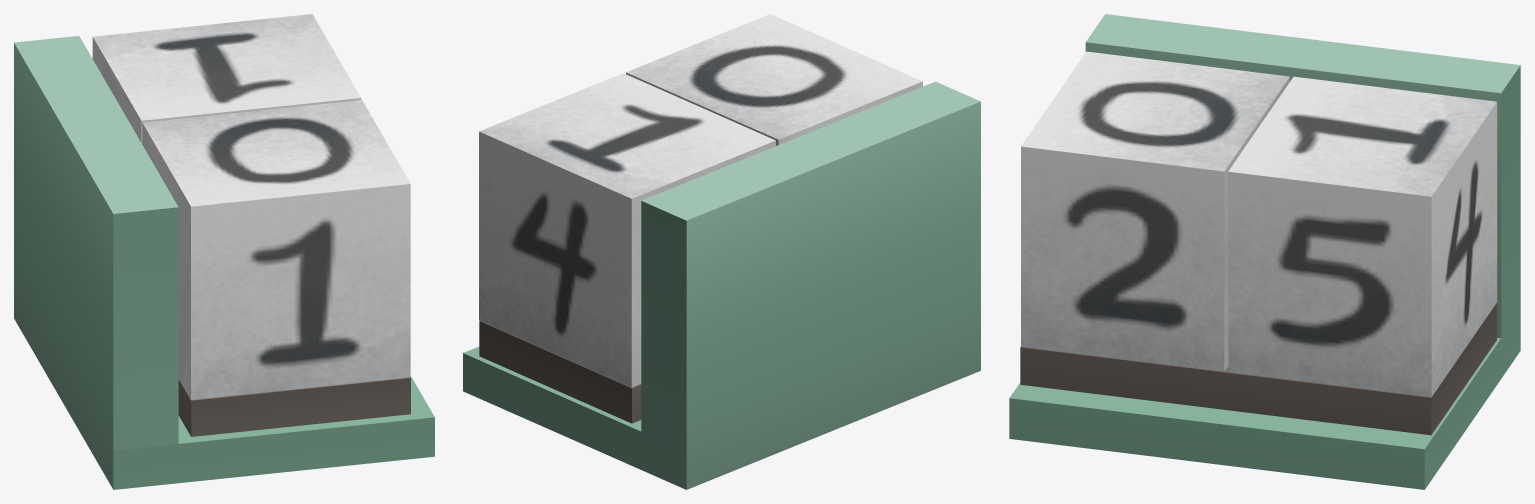
Rendered from desk calendar.fbx.
3 renders of one model, left to right at view 1: azimuth 30°, elevation 25°; view 2: azimuth 150°, elevation 25°; view 3: azimuth 270°, elevation 25°, orthographic. The views are drawn at different scales.
Visible parts, largest first — view 1: calendar_cubes, calender_stand; view 2: calender_stand, calendar_cubes; view 3: calendar_cubes, calender_stand.
Part boxes in pixels (box(x1,y1,x2,y2)): calendar_cubes: box(92, 14, 410, 400); calender_stand: box(14, 36, 434, 489); calender_stand: box(463, 81, 980, 489); calendar_cubes: box(479, 14, 922, 387); calendar_cubes: box(1021, 51, 1497, 396); calender_stand: box(1009, 14, 1520, 489).
Size of the model in its own units: 103 by 72.31 by 117.
